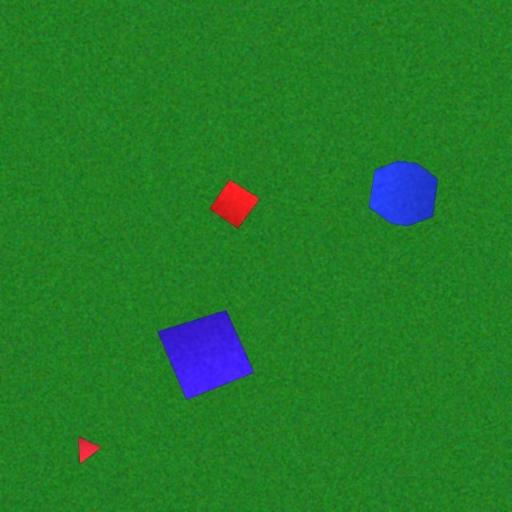BLUE_SQUARE: (157, 310, 254, 400)
RED_SQUARE: (209, 179, 260, 230)
